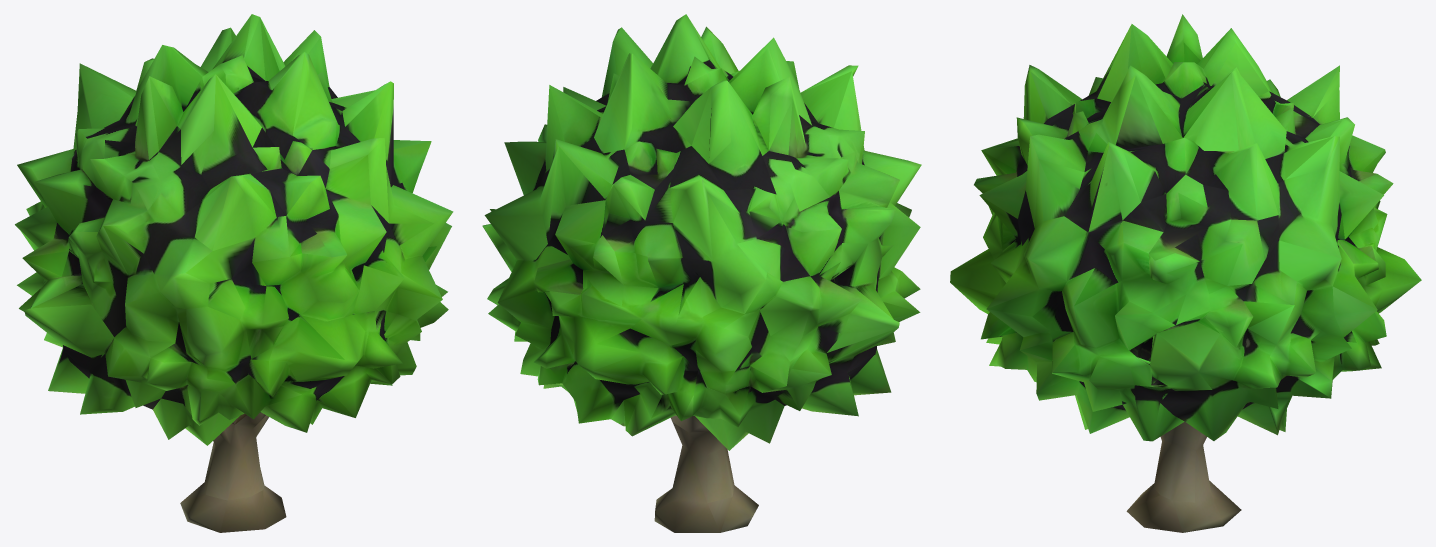
File: arbusto.glb
3 renders of one model, left to right at view 1: azimuth 30°, elevation 25°; view 2: azimuth 150°, elevation 25°; view 3: azimuth 270°, elevation 25°, orthographic.
Visible parts, largest first — view 1: Mesh_0.005; view 2: Mesh_0.005; view 3: Mesh_0.005.
Boxes of the visible parts, bbox=[...] form: Mesh_0.005: bbox=[15, 14, 453, 532]; Mesh_0.005: bbox=[482, 14, 921, 532]; Mesh_0.005: bbox=[950, 14, 1421, 532].
Size of the model in its own units: 1.82 by 2.01 by 1.84.
1 material, 1 textured.
